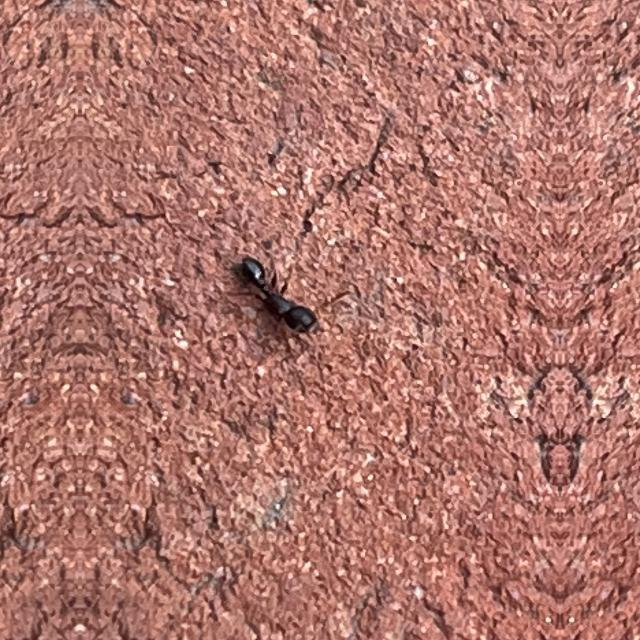Tetramorium: (225, 237, 337, 346)
